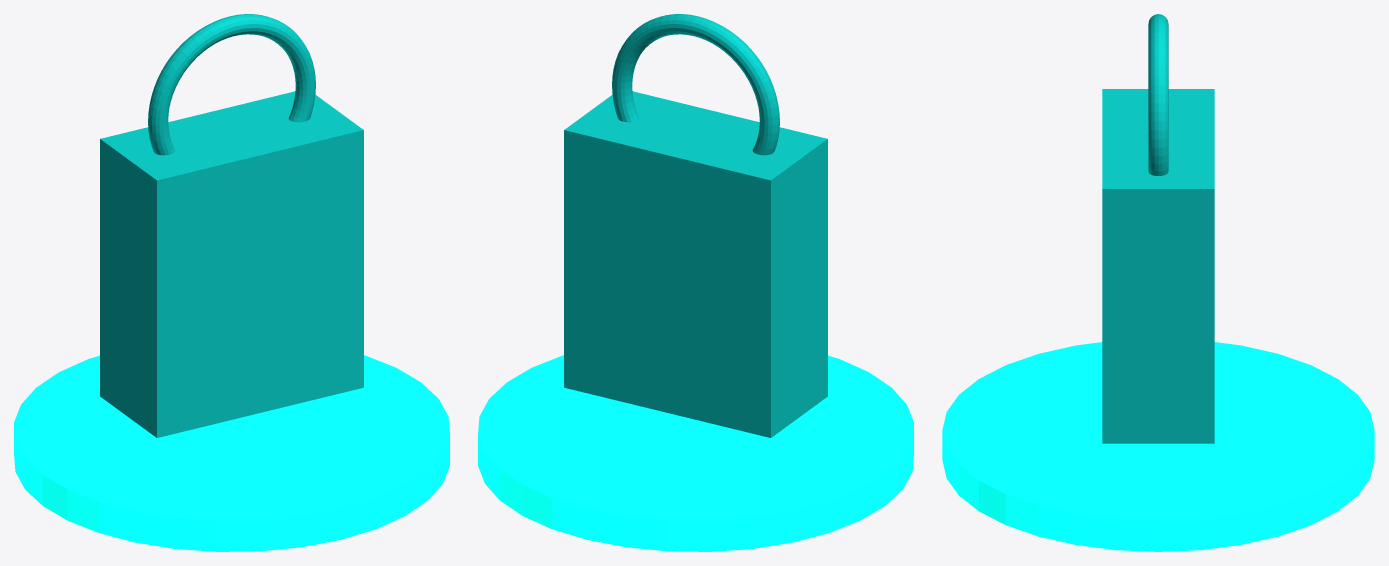
Rendered from fashion_shopping_bag.glb.
The picture shows the model from 3 angles, left to right: view 1: azimuth 30°, elevation 25°; view 2: azimuth 150°, elevation 25°; view 3: azimuth 270°, elevation 25°; orthographic projection.
Parts seen in each view (by area): view 1: 06_15_Popular_Fashion_Shopping_Bag_part_01, 06_15_Popular_Fashion_Shopping_Bag_ROOT_base, 06_15_Popular_Fashion_Shopping_Bag_part_02; view 2: 06_15_Popular_Fashion_Shopping_Bag_part_01, 06_15_Popular_Fashion_Shopping_Bag_ROOT_base, 06_15_Popular_Fashion_Shopping_Bag_part_02; view 3: 06_15_Popular_Fashion_Shopping_Bag_ROOT_base, 06_15_Popular_Fashion_Shopping_Bag_part_01, 06_15_Popular_Fashion_Shopping_Bag_part_02.
Part boxes in pixels (x1,y1,x2,y2): 06_15_Popular_Fashion_Shopping_Bag_part_01: (100, 91, 363, 437); 06_15_Popular_Fashion_Shopping_Bag_ROOT_base: (14, 355, 449, 551); 06_15_Popular_Fashion_Shopping_Bag_part_02: (148, 14, 315, 155); 06_15_Popular_Fashion_Shopping_Bag_part_01: (564, 91, 827, 437); 06_15_Popular_Fashion_Shopping_Bag_ROOT_base: (478, 355, 913, 551); 06_15_Popular_Fashion_Shopping_Bag_part_02: (612, 14, 779, 155); 06_15_Popular_Fashion_Shopping_Bag_ROOT_base: (942, 342, 1374, 551); 06_15_Popular_Fashion_Shopping_Bag_part_01: (1102, 89, 1214, 443); 06_15_Popular_Fashion_Shopping_Bag_part_02: (1148, 14, 1168, 175).
Size of the model in its own units: 0.76 by 0.85 by 0.76.
